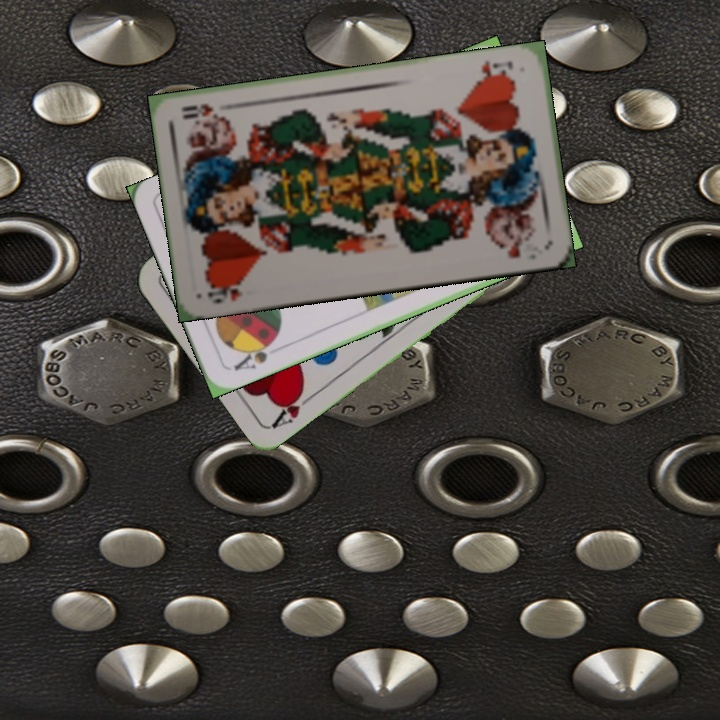HA: (268, 384, 319, 431)
HO: (203, 277, 248, 306), (472, 56, 515, 84)
SA: (229, 334, 279, 374)
